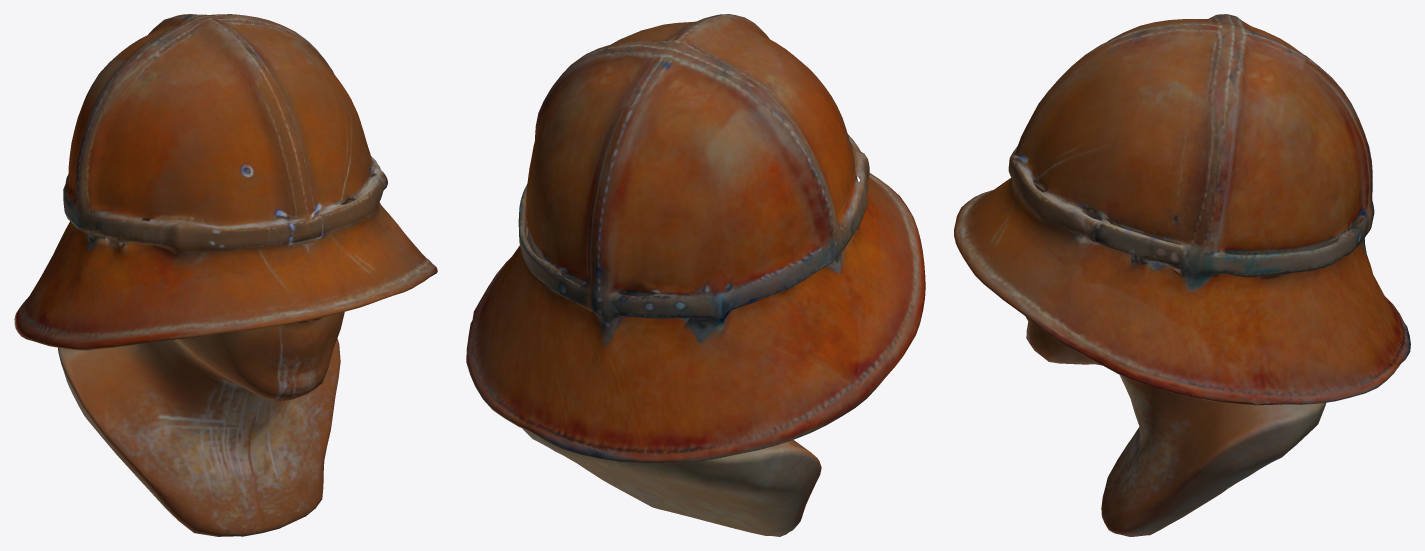
Rendered from Leather Helmet.glb.
The picture shows the model from 3 angles, left to right: view 1: azimuth 30°, elevation 25°; view 2: azimuth 150°, elevation 25°; view 3: azimuth 270°, elevation 25°; orthographic projection. The views are drawn at different scales.
Parts seen in each view (by area): view 1: file1; view 2: file1; view 3: file1.
Boxes of the visible parts, x1,y1,x2,y2 form: file1: [14, 14, 437, 536]; file1: [466, 14, 925, 536]; file1: [954, 14, 1410, 536].
Bounding box in the file's own units: 1.58 × 1.99 × 1.68.
Materials: 1 (1 with a texture image).
